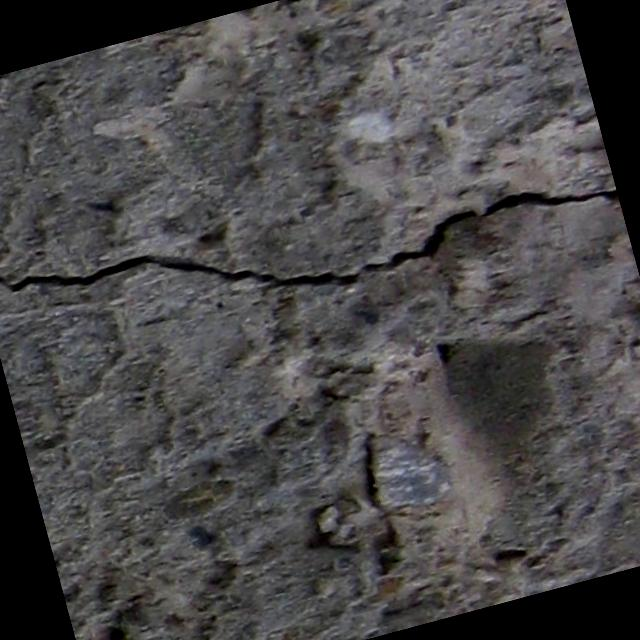crack: (0, 105, 622, 376)
